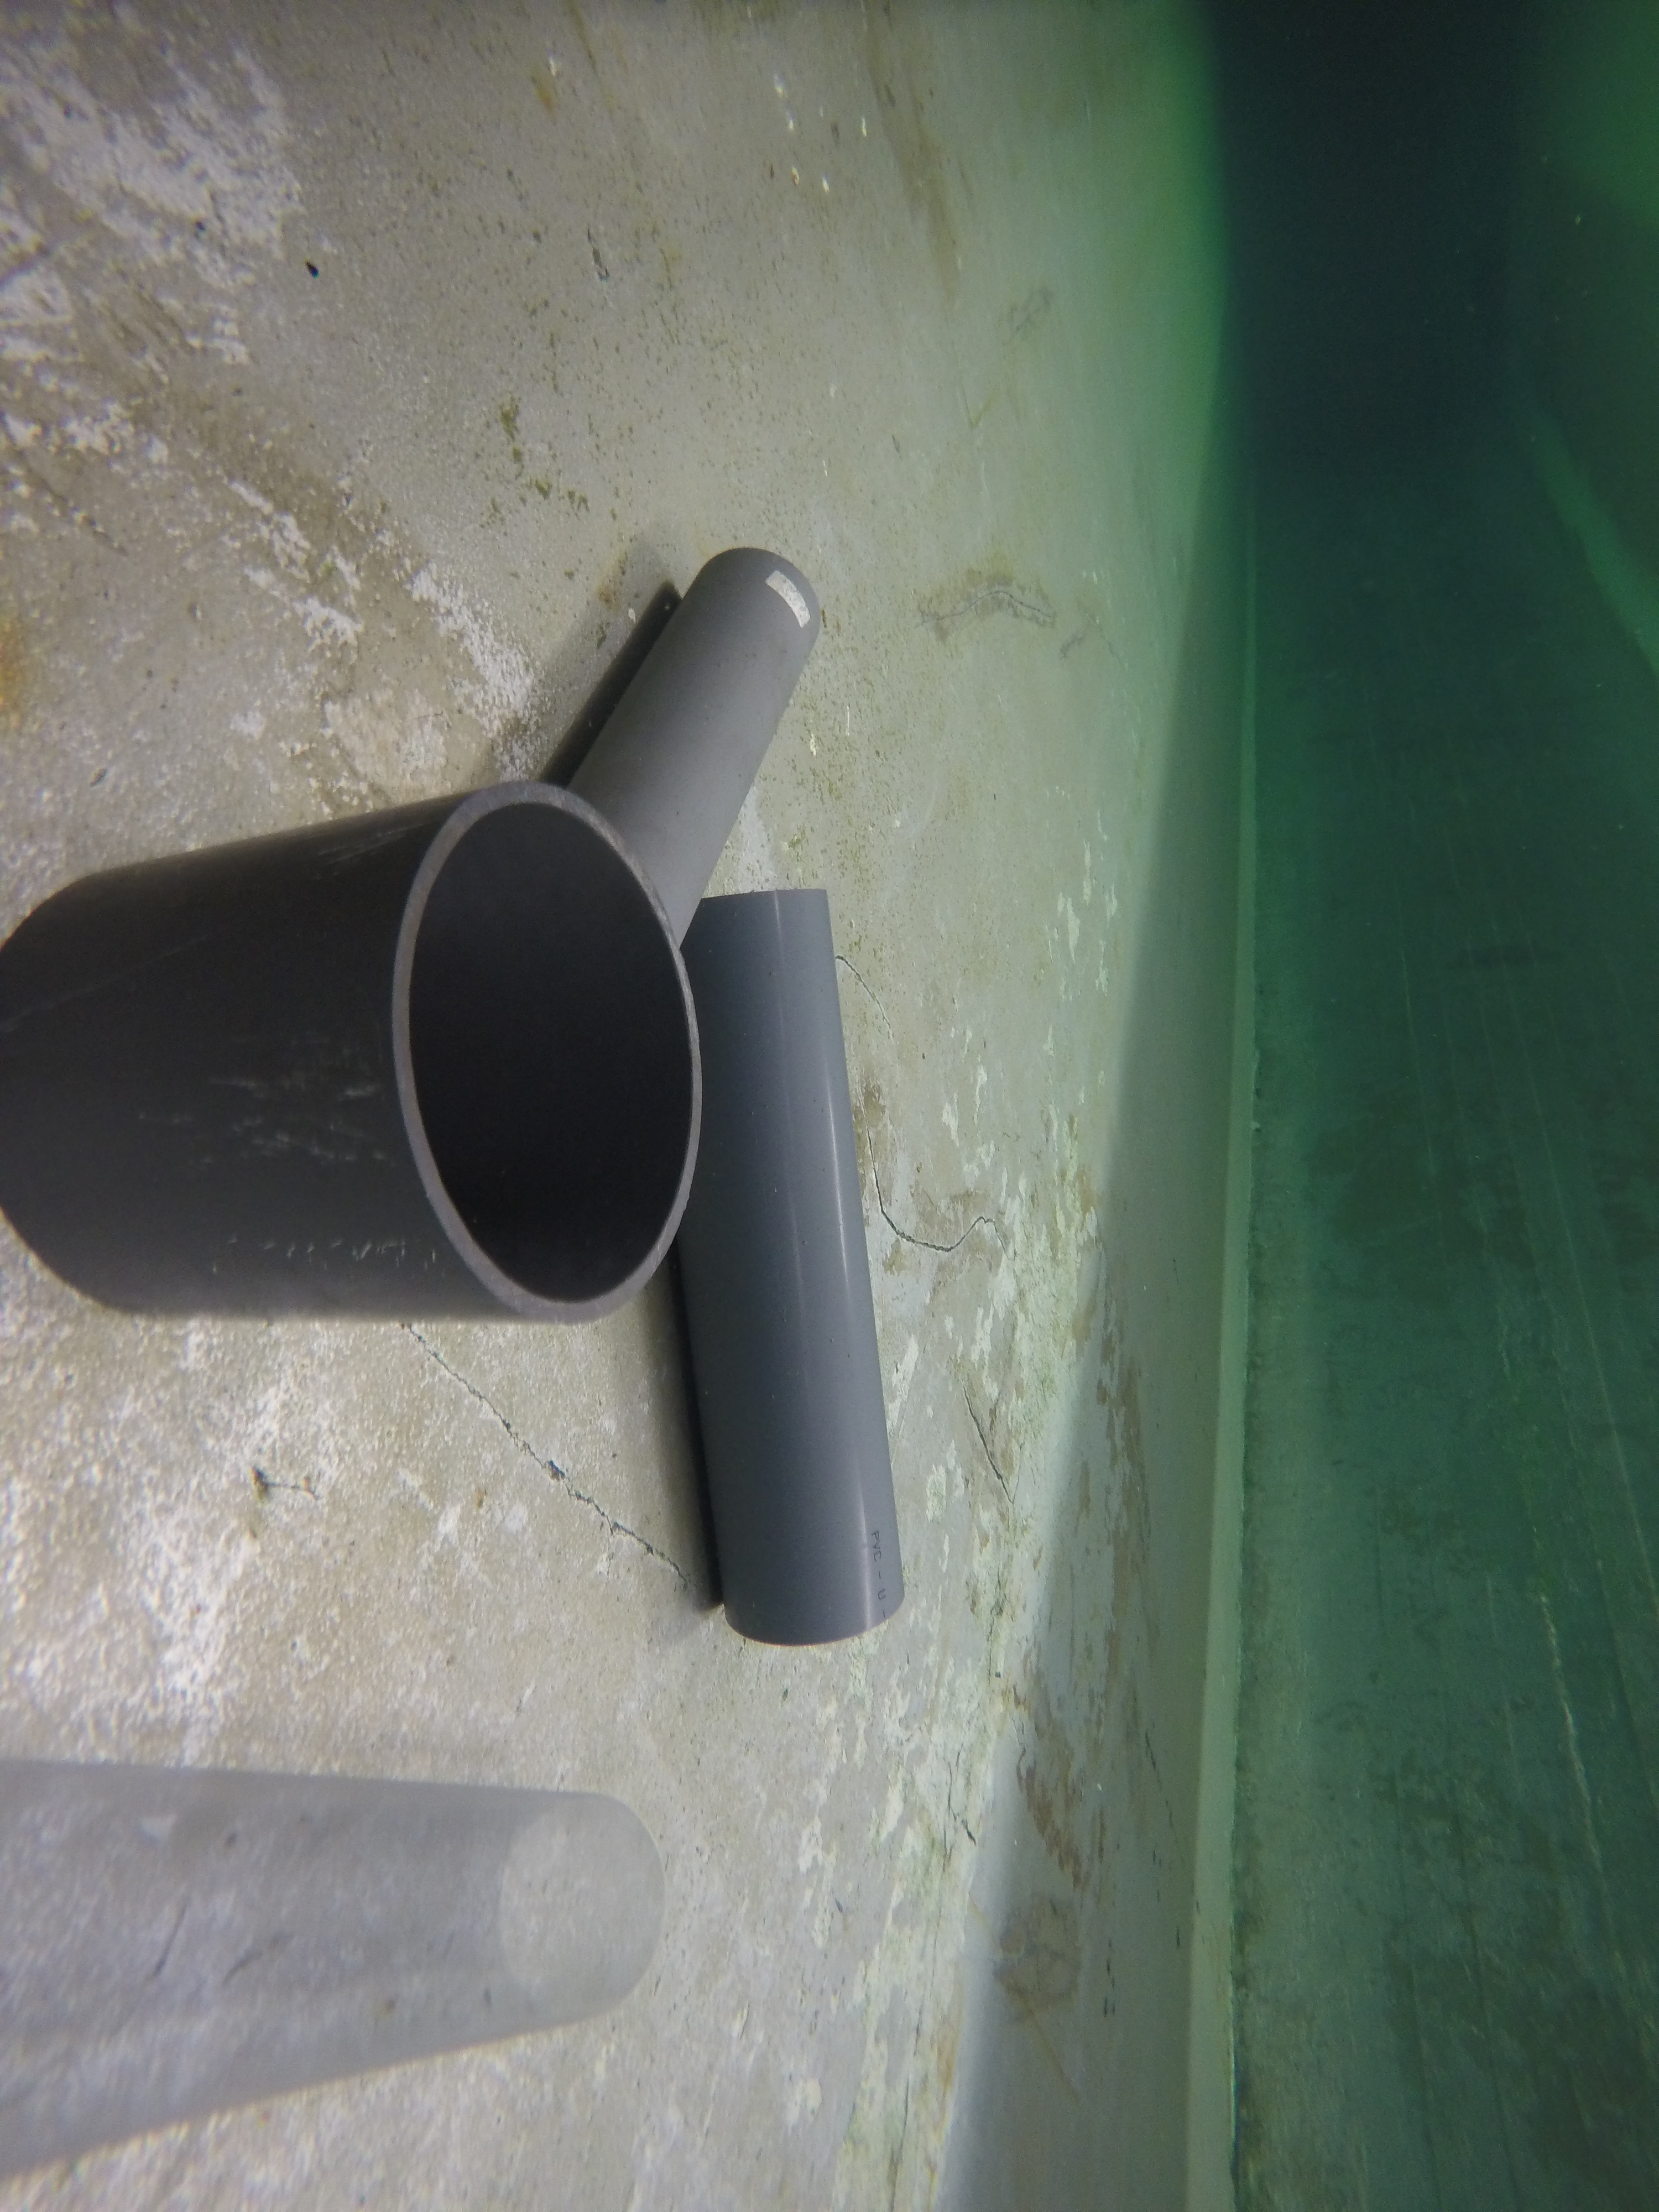pipe: (0, 782, 706, 1331), (0, 1749, 669, 2184), (667, 883, 911, 1648), (570, 545, 823, 949)
